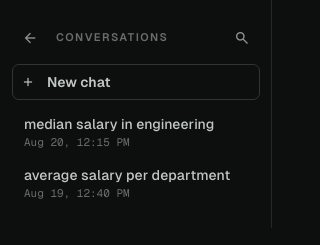
it: the inline search › says so when the query matches no thread
This screenshot has width=320, height=245.
Click the button named "Search conversations": click(242, 38) [224,20,260,56]
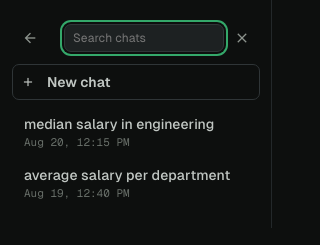
In the search field: (144, 38) [64,24,224,52], type "headcount"
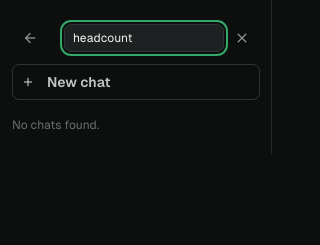
Expected: the text "No chats found." is shown, [12,118,99,132]
